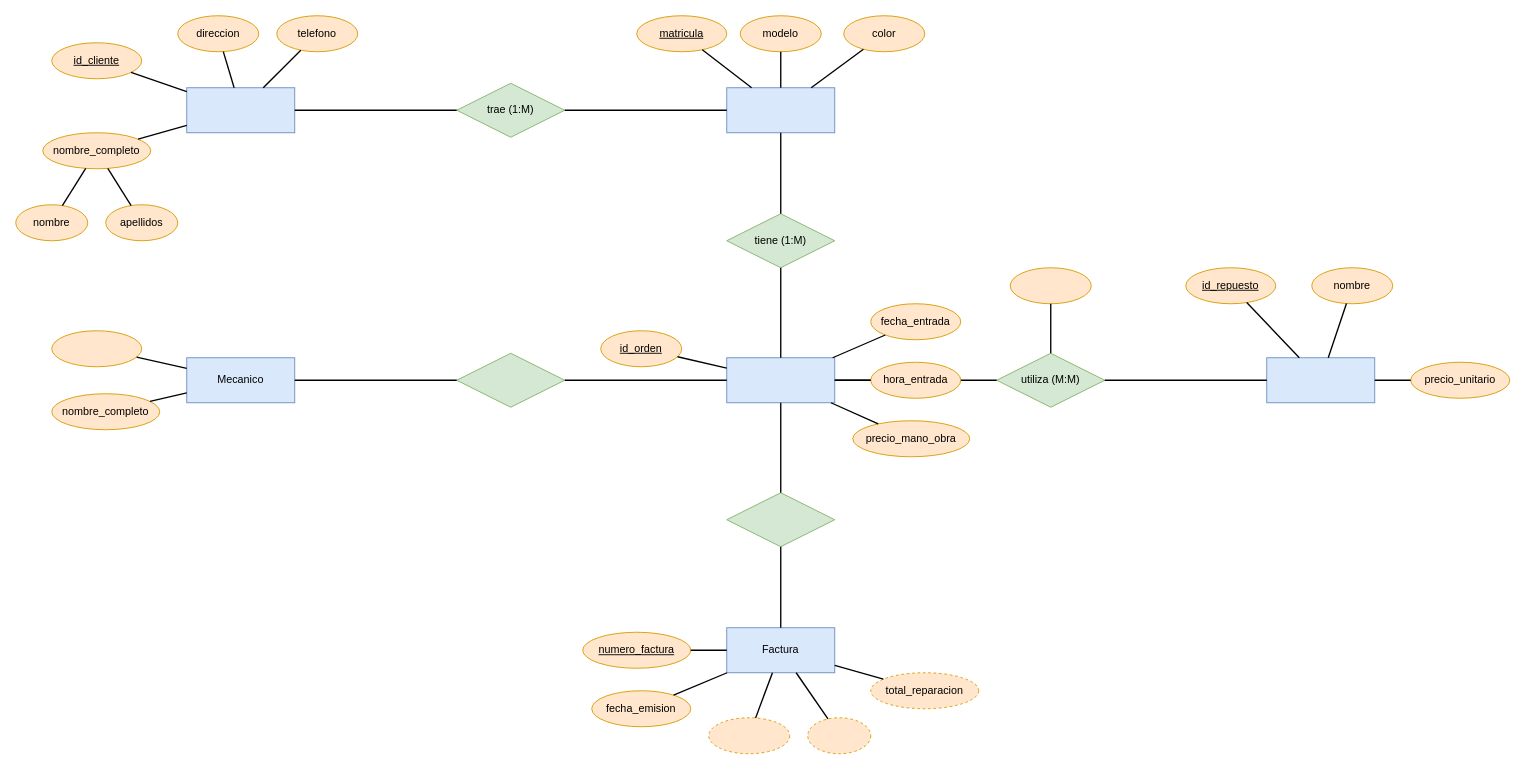
The diagram is 1526 pixels wide and 770 high, and some of its shapes have lost their labels. The centre of each missing label's shape, as x and y in pixels:
"cantidad" belongs at pixel 1050 285.
"Cliente" belongs at pixel 240 110.
"genera (1:1)" belongs at pixel 780 519.
"id_mecanico" belongs at pixel 96 348.
"iva" belongs at pixel 839 735.
"Orden_trabajo" belongs at pixel 780 380.
"Repuesto" belongs at pixel 1320 380.
"subtotal" belongs at pixel 749 735.
"trabaja (M:M)" belongs at pixel 510 379.
"Vehiculo" belongs at pixel 780 110.
